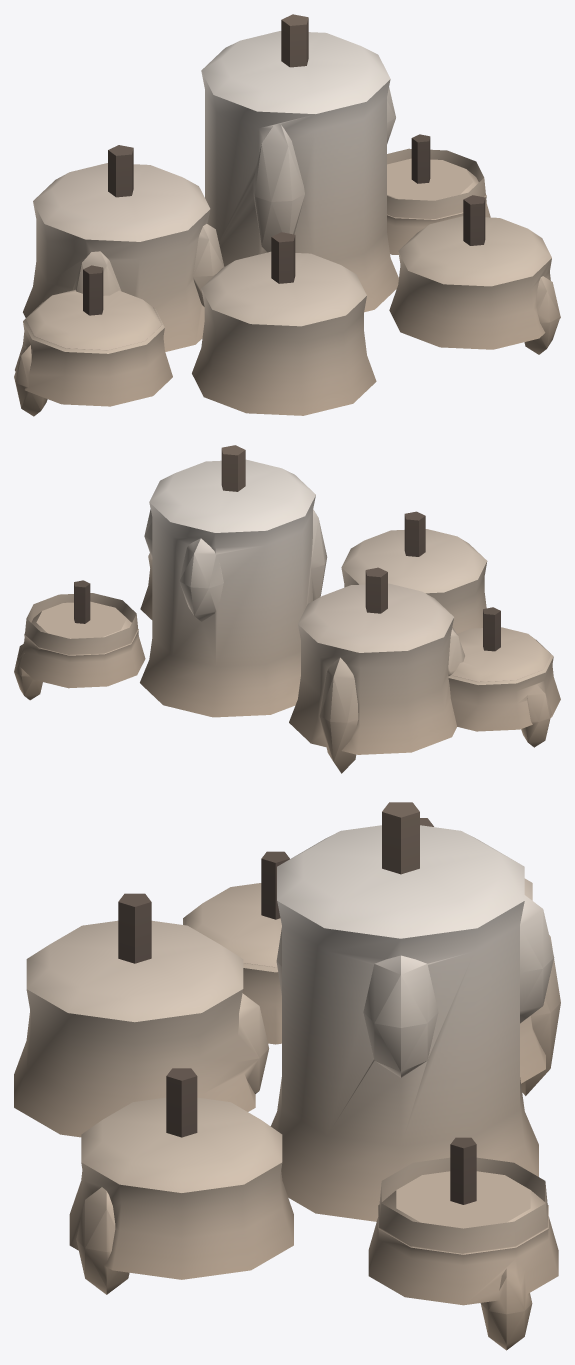
File: candle_stubs.glb
The picture shows the model from 3 angles, top to bottom: view 1: azimuth 30°, elevation 25°; view 2: azimuth 150°, elevation 25°; view 3: azimuth 270°, elevation 25°; orthographic projection. The views are drawn at different scales.
Parts seen in each view (by area): view 1: candle_stubs; view 2: candle_stubs; view 3: candle_stubs.
Boxes of the visible parts, x1=… form: candle_stubs: x1=14, y1=14, x2=560, y2=416; candle_stubs: x1=14, y1=445, x2=560, y2=773; candle_stubs: x1=14, y1=802, x2=560, y2=1350.
Bounding box in the file's own units: 1.07 × 0.5831 × 0.6989.
1 material, 1 textured.
